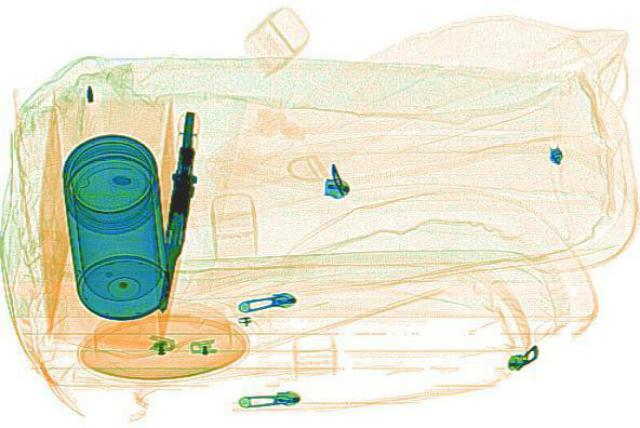Gun: (148, 108, 206, 308)
